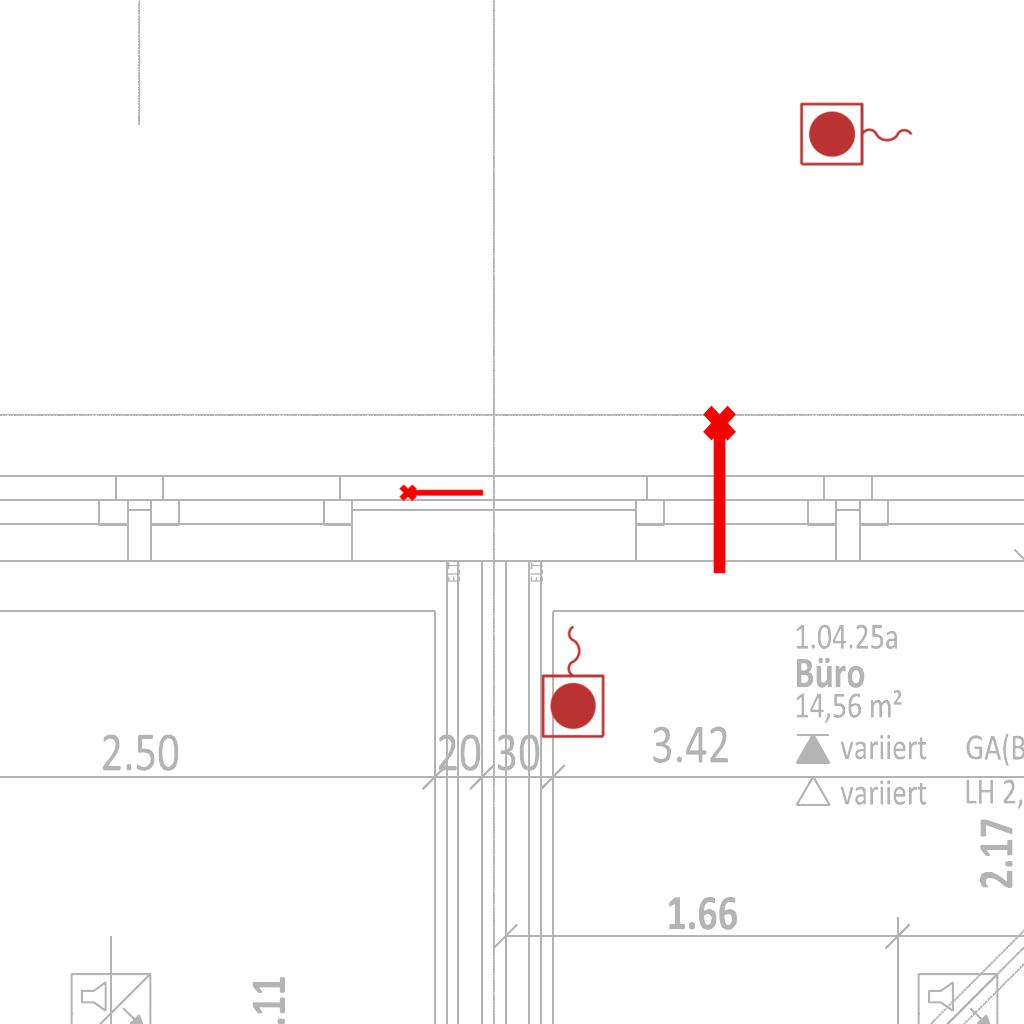ASR_Ansaugoeffnung: (699, 403, 745, 579), (398, 480, 486, 503)
Zugtaster: (796, 99, 918, 171), (538, 620, 610, 742)
